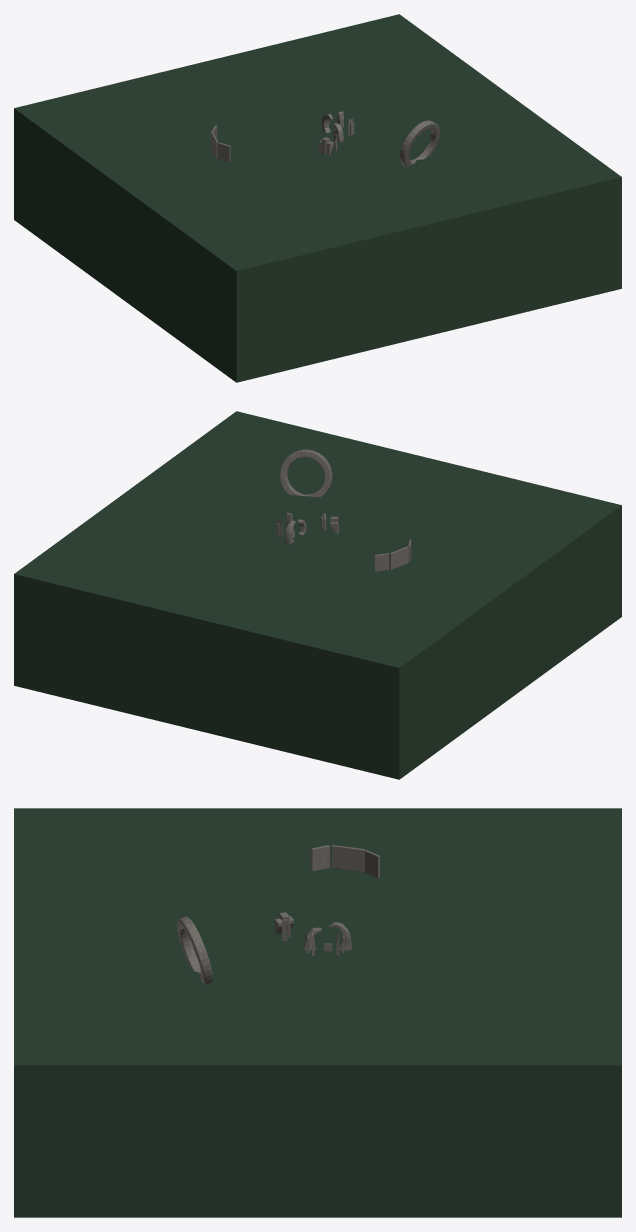
The model's file is enviroment-2.glb.
3 renders of one model, top to bottom at view 1: azimuth 30°, elevation 25°; view 2: azimuth 150°, elevation 25°; view 3: azimuth 270°, elevation 25°, orthographic. The views are drawn at different scales.
Visible parts, largest first — view 1: Cube, About-pillar-1; view 2: Cube, About-pillar-1, Work-Pillar-1; view 3: Cube, Work-Pillar-1, About-pillar-1.
Boxes of the visible parts, x1,y1,x2,y2 form: Cube: (14,14,621,382); About-pillar-1: (399,120,440,167); Cube: (14,411,621,779); About-pillar-1: (279,449,332,497); Work-Pillar-1: (374,539,411,571); Cube: (14,808,621,1217); Work-Pillar-1: (311,845,379,878); About-pillar-1: (177,916,212,984).
Bounding box in the file's own units: 355 × 134 × 355.
Materials: 2 (1 with a texture image).
